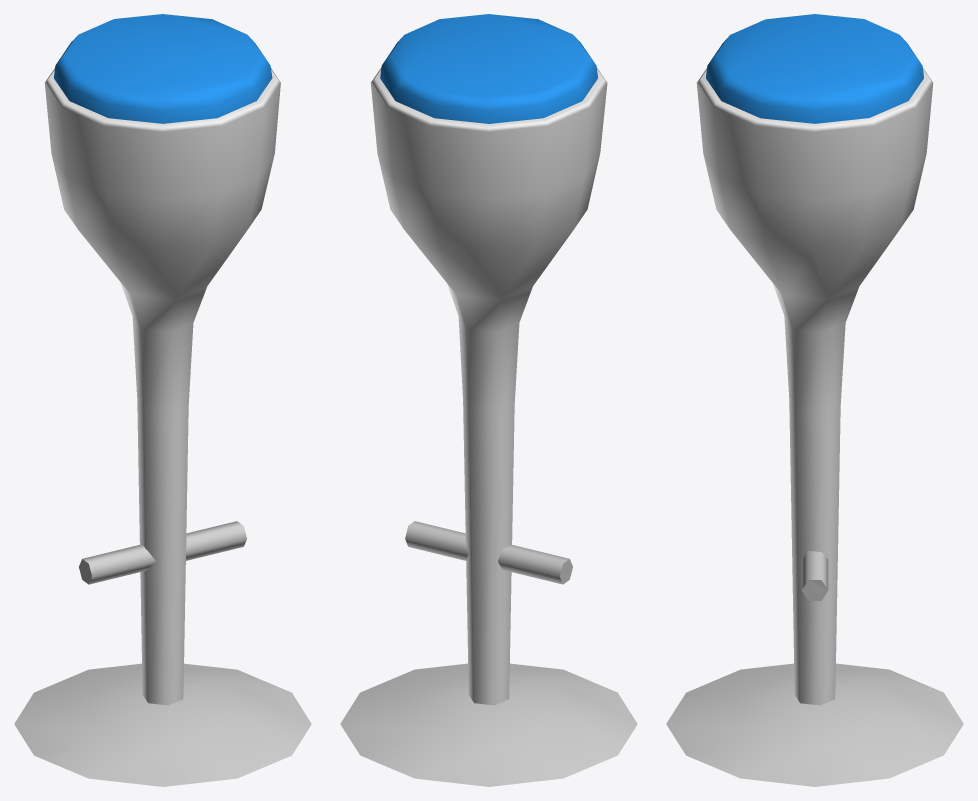
The model's file is chair_016.fbx.
3 renders of one model, left to right at view 1: azimuth 30°, elevation 25°; view 2: azimuth 150°, elevation 25°; view 3: azimuth 270°, elevation 25°, orthographic.
Parts seen in each view (by area): view 1: chair_016; view 2: chair_016; view 3: chair_016.
Part boxes in pixels (x1=…): chair_016: x1=14, y1=14, x2=311, y2=786; chair_016: x1=340, y1=14, x2=637, y2=786; chair_016: x1=666, y1=14, x2=963, y2=786.
Size of the model in its own units: 42.82 by 42.81 by 106.
